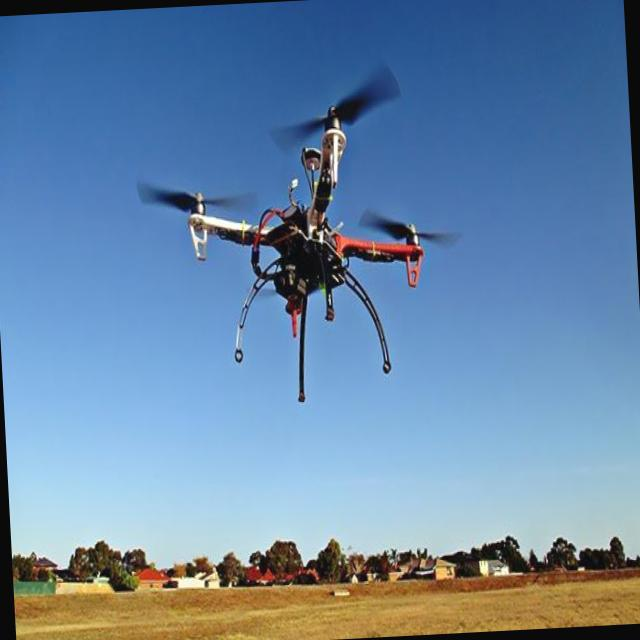drone: (128, 58, 470, 414)
